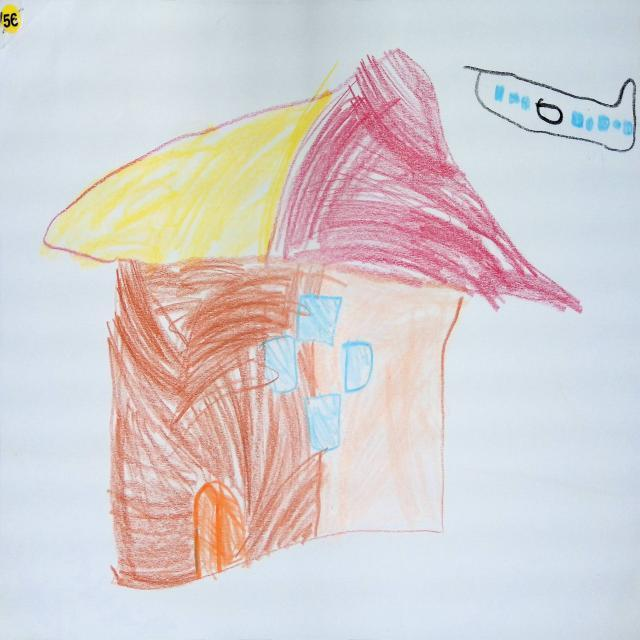door: (194, 482, 246, 578)
house: (44, 49, 582, 590)
roof: (44, 49, 581, 310)
wall: (108, 263, 464, 590)
window: (297, 294, 342, 344), (264, 336, 298, 394), (306, 395, 340, 452), (343, 342, 374, 392)
